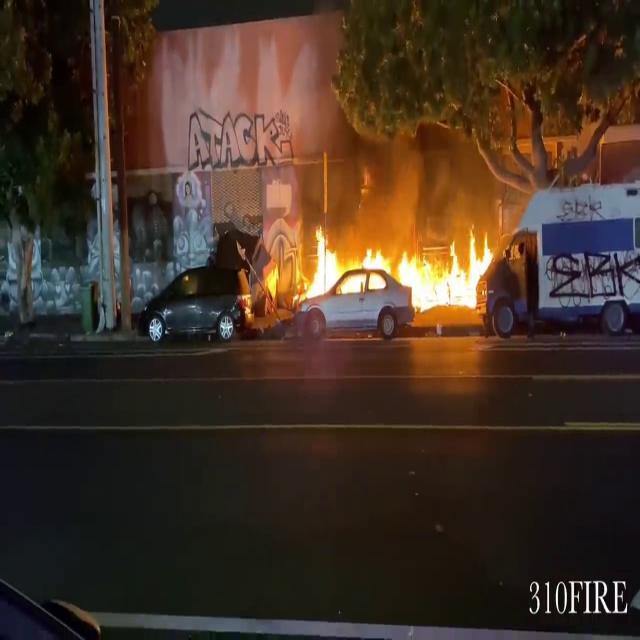Fire: (294, 217, 495, 319)
Smoke: (332, 128, 507, 254)
